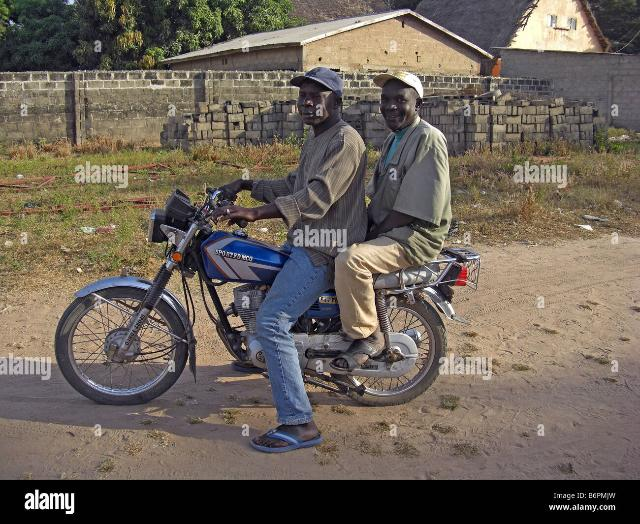motor: (56, 168, 483, 408)
non-helm: (374, 74, 425, 133), (291, 69, 343, 126)
